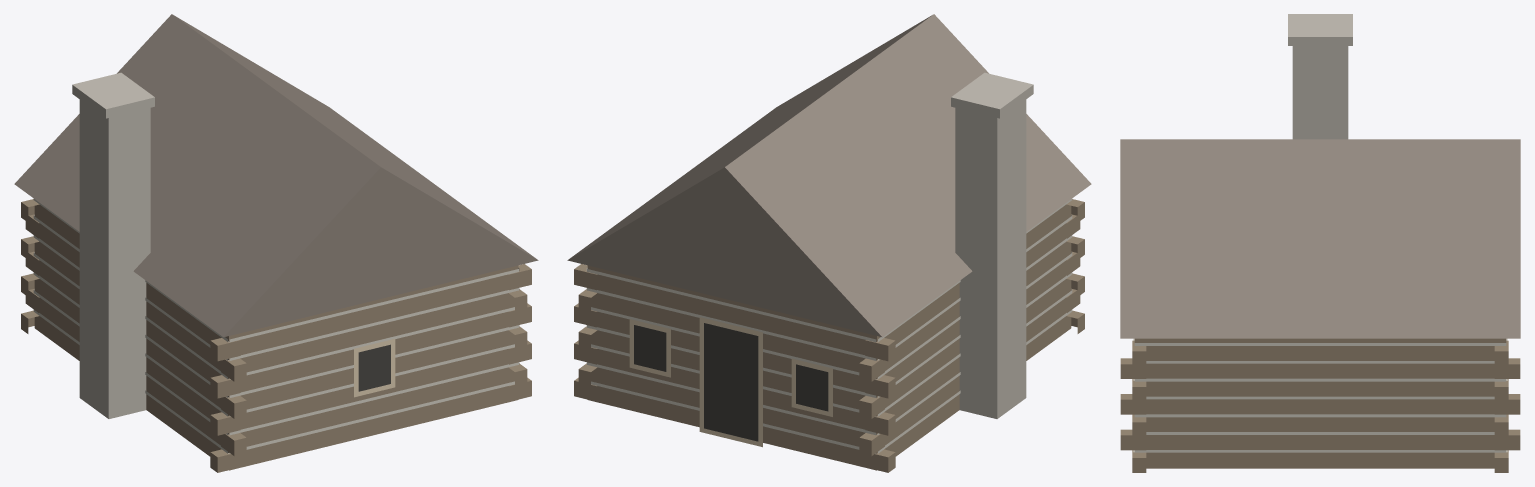
Rendered from recon_1835_blk_south_water_wells_d1_05__inferred_1835.glb.
The picture shows the model from 3 angles, left to right: view 1: azimuth 30°, elevation 25°; view 2: azimuth 150°, elevation 25°; view 3: azimuth 270°, elevation 25°; orthographic projection. The views are drawn at different scales.
Parts seen in each view (by area): view 1: recon_1835_blk_south_water_wells_d1_05__inferred_1835; view 2: recon_1835_blk_south_water_wells_d1_05__inferred_1835; view 3: recon_1835_blk_south_water_wells_d1_05__inferred_1835.
Part boxes in pixels (x1,y1,x2,y2): recon_1835_blk_south_water_wells_d1_05__inferred_1835: (14,14,538,472); recon_1835_blk_south_water_wells_d1_05__inferred_1835: (567,14,1091,472); recon_1835_blk_south_water_wells_d1_05__inferred_1835: (1120,14,1520,472).
Size of the model in its own units: 6.6 by 5.79 by 6.94.
